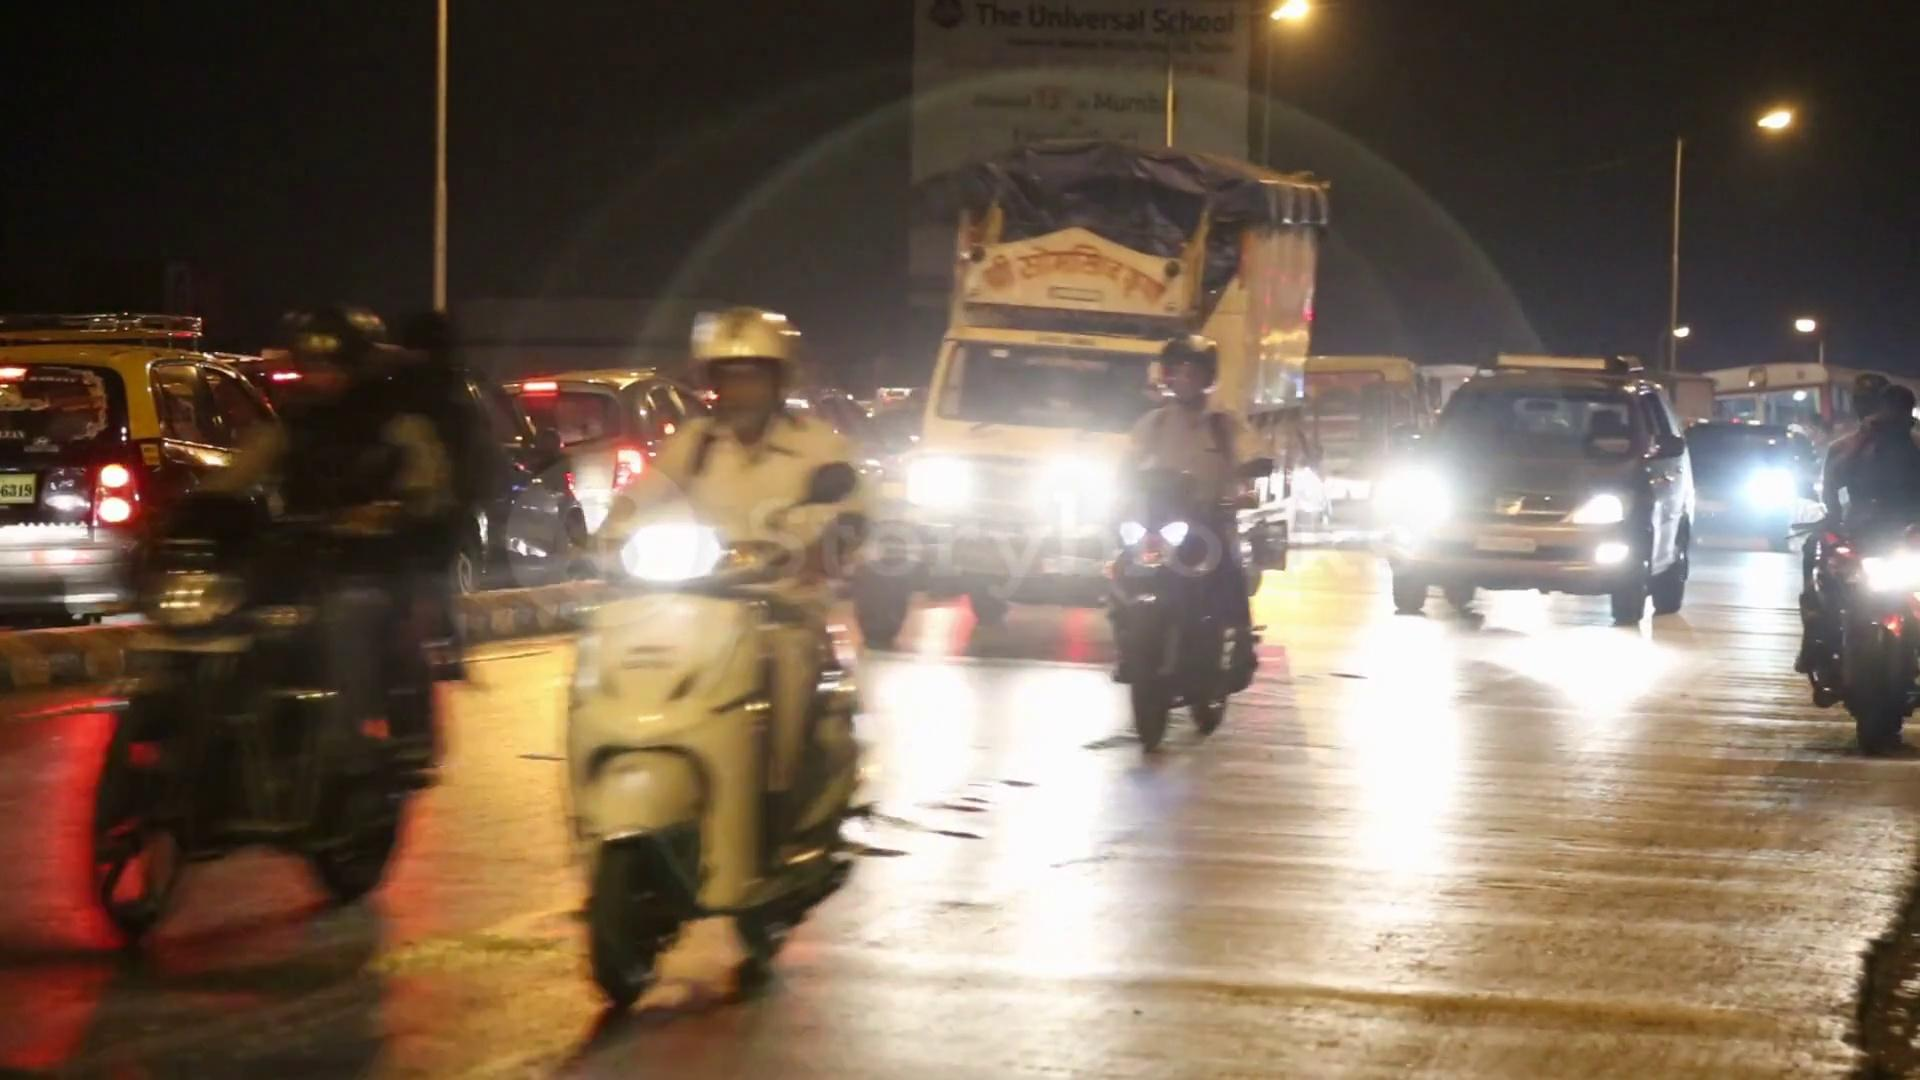rider: (80, 280, 487, 984), (539, 296, 936, 1010), (1101, 330, 1278, 743), (1811, 364, 1916, 754)
with_helmate: (681, 314, 820, 434), (1151, 340, 1237, 397)
